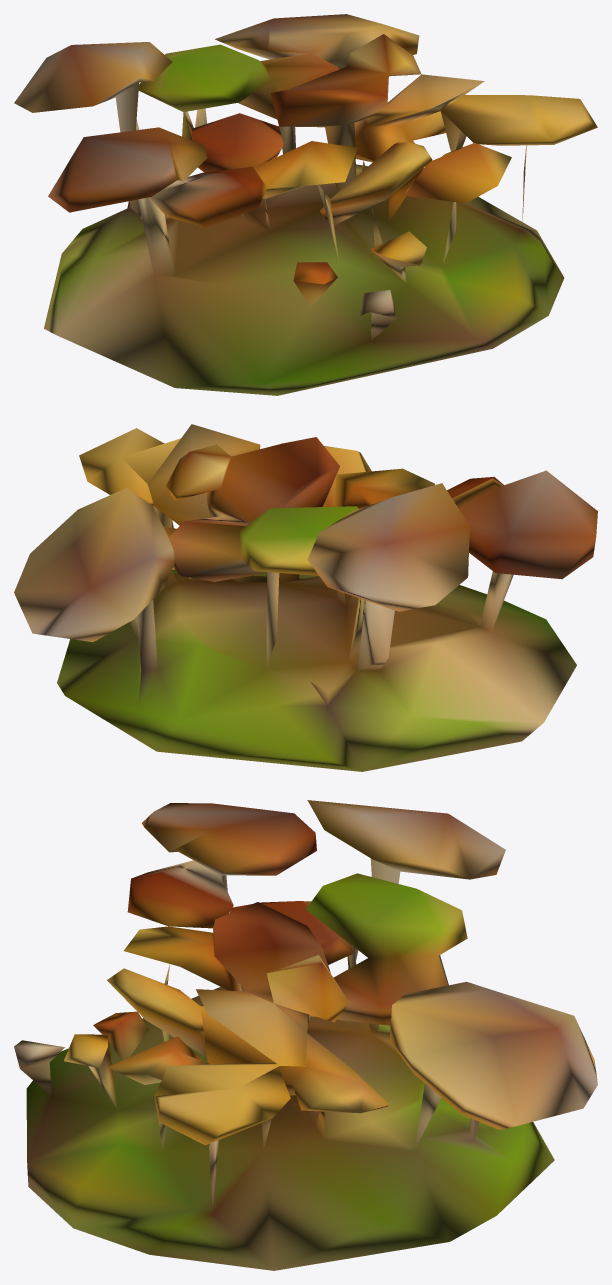
File: mushroom_cluster.glb
3 views of the same model, one above another, from view 1: azimuth 30°, elevation 25°; view 2: azimuth 150°, elevation 25°; view 3: azimuth 270°, elevation 25° (orthographic). The views are drawn at different scales.
Size of the model in its own units: 1.87 by 0.816 by 1.64.
